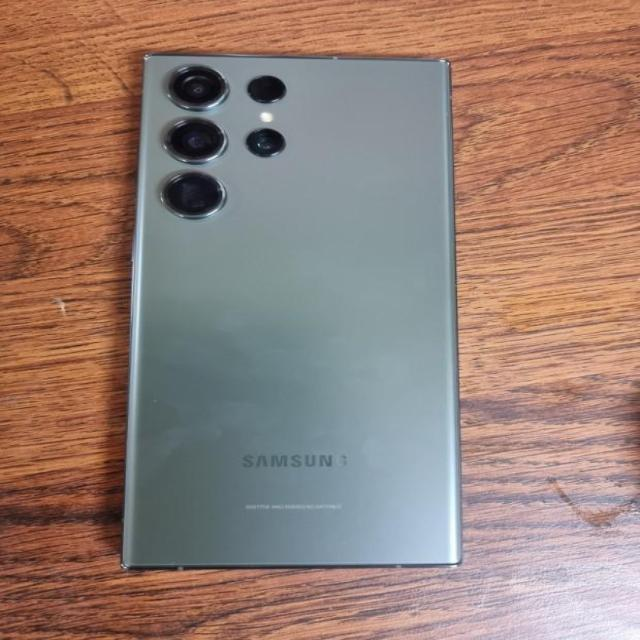lens: (160, 57, 294, 234)
phone: (122, 50, 462, 572)
